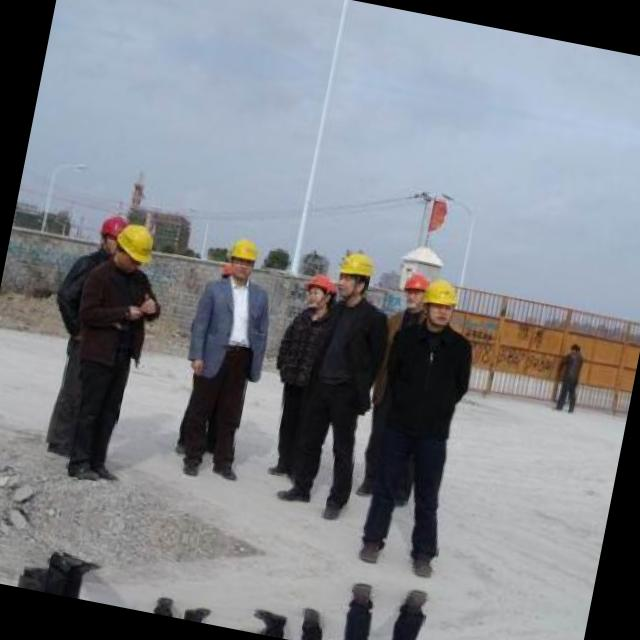helmet: (106, 215, 159, 274), (332, 245, 378, 302), (417, 275, 462, 330), (222, 231, 264, 282), (300, 266, 340, 314), (94, 209, 126, 256), (397, 267, 431, 310)
